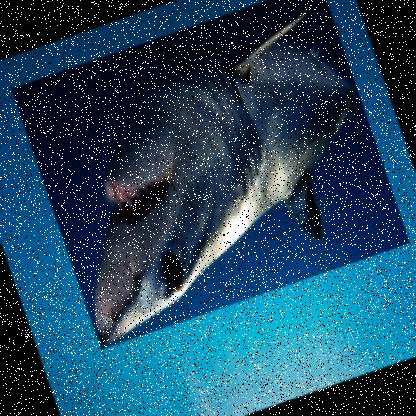mako-shark: (10, 0, 411, 350)
